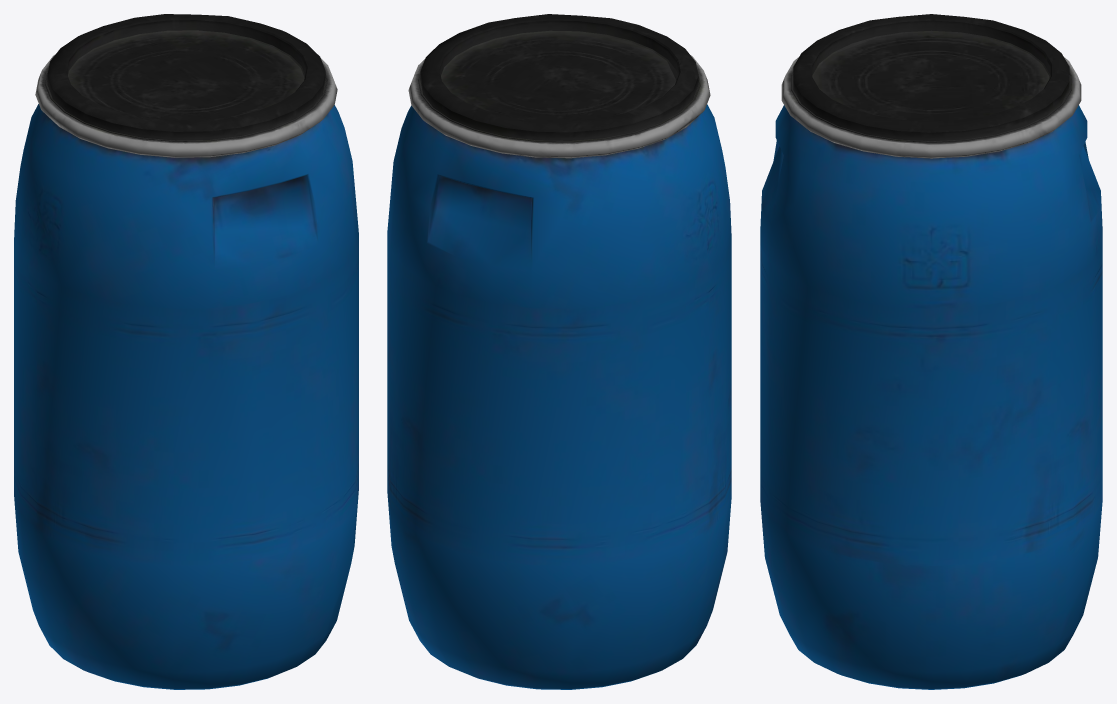
File: Barrel_02.glb
The picture shows the model from 3 angles, left to right: view 1: azimuth 30°, elevation 25°; view 2: azimuth 150°, elevation 25°; view 3: azimuth 270°, elevation 25°; orthographic projection.
Parts seen in each view (by area): view 1: Barrel_02; view 2: Barrel_02; view 3: Barrel_02.
Boxes of the visible parts, <box> form: Barrel_02: <box>14,14,358,689</box>; Barrel_02: <box>387,14,731,689</box>; Barrel_02: <box>760,14,1102,689</box>.
Size of the model in its own units: 0.4882 by 0.88 by 0.4846.
1 material, 1 textured.
